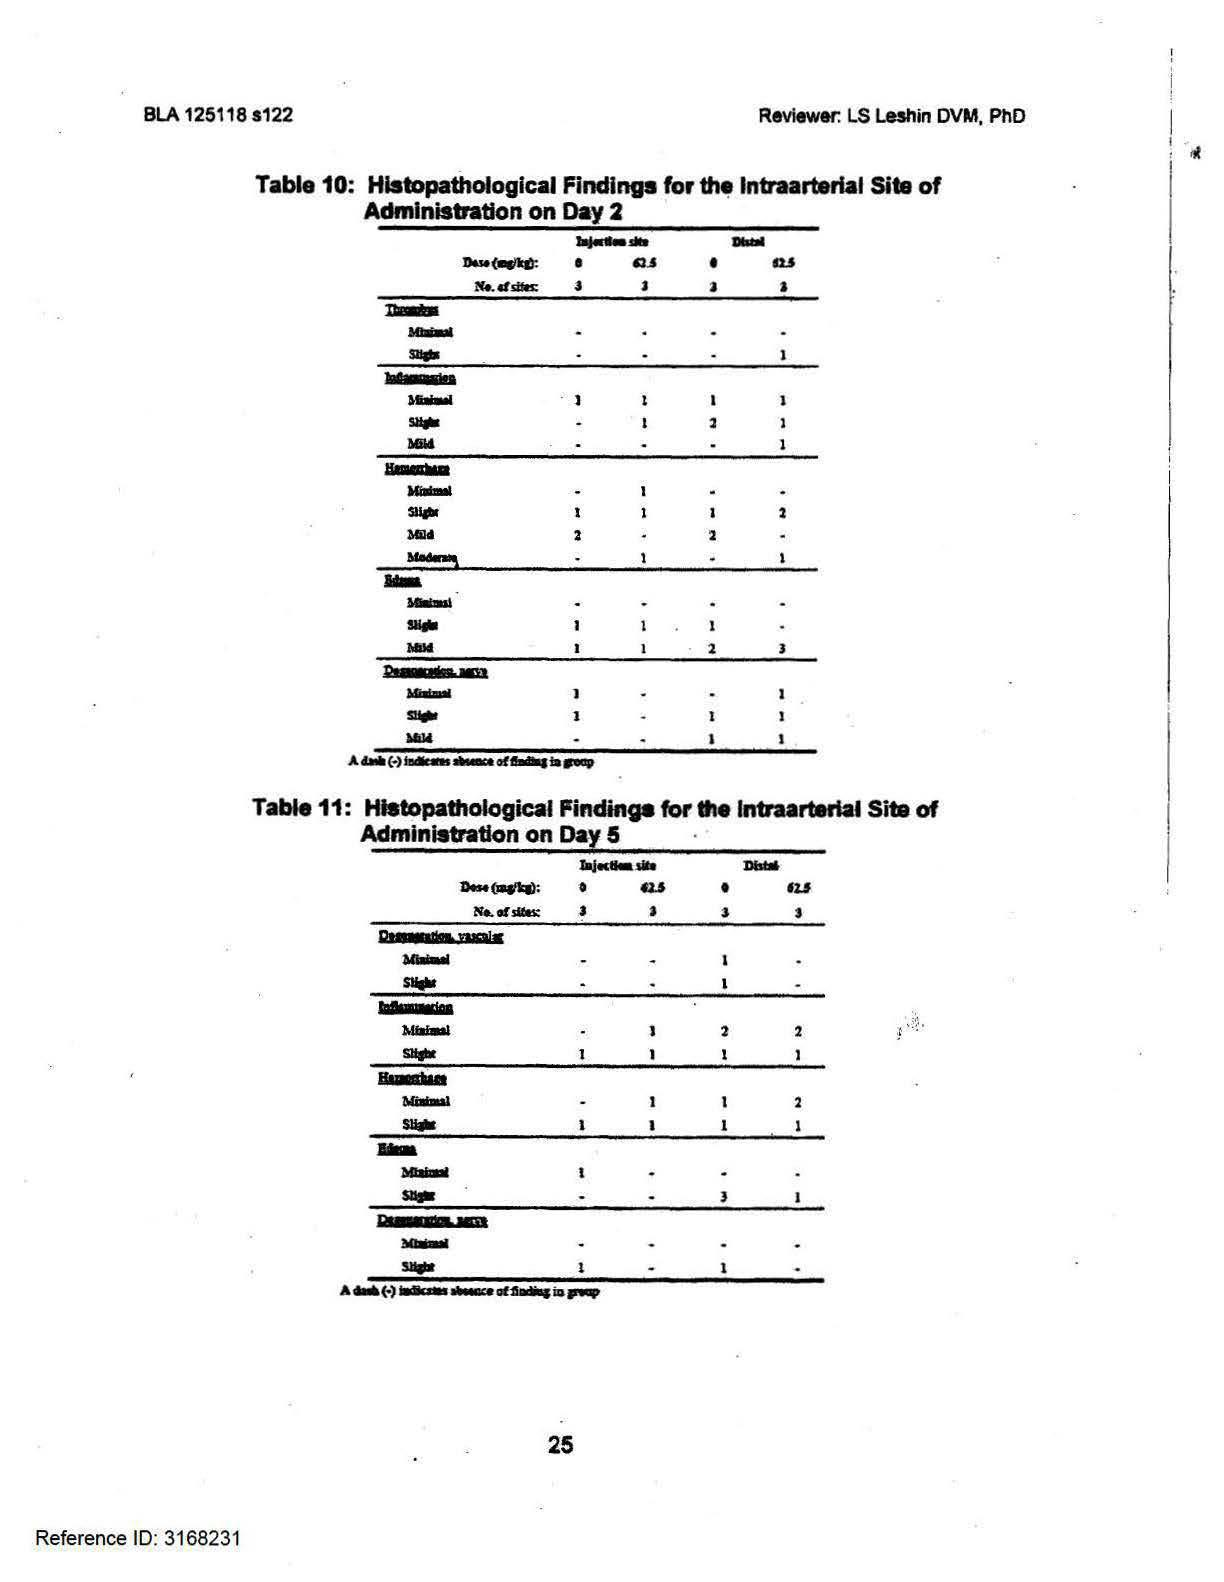partial_lined: (374, 223, 819, 755), (369, 847, 827, 1285)
